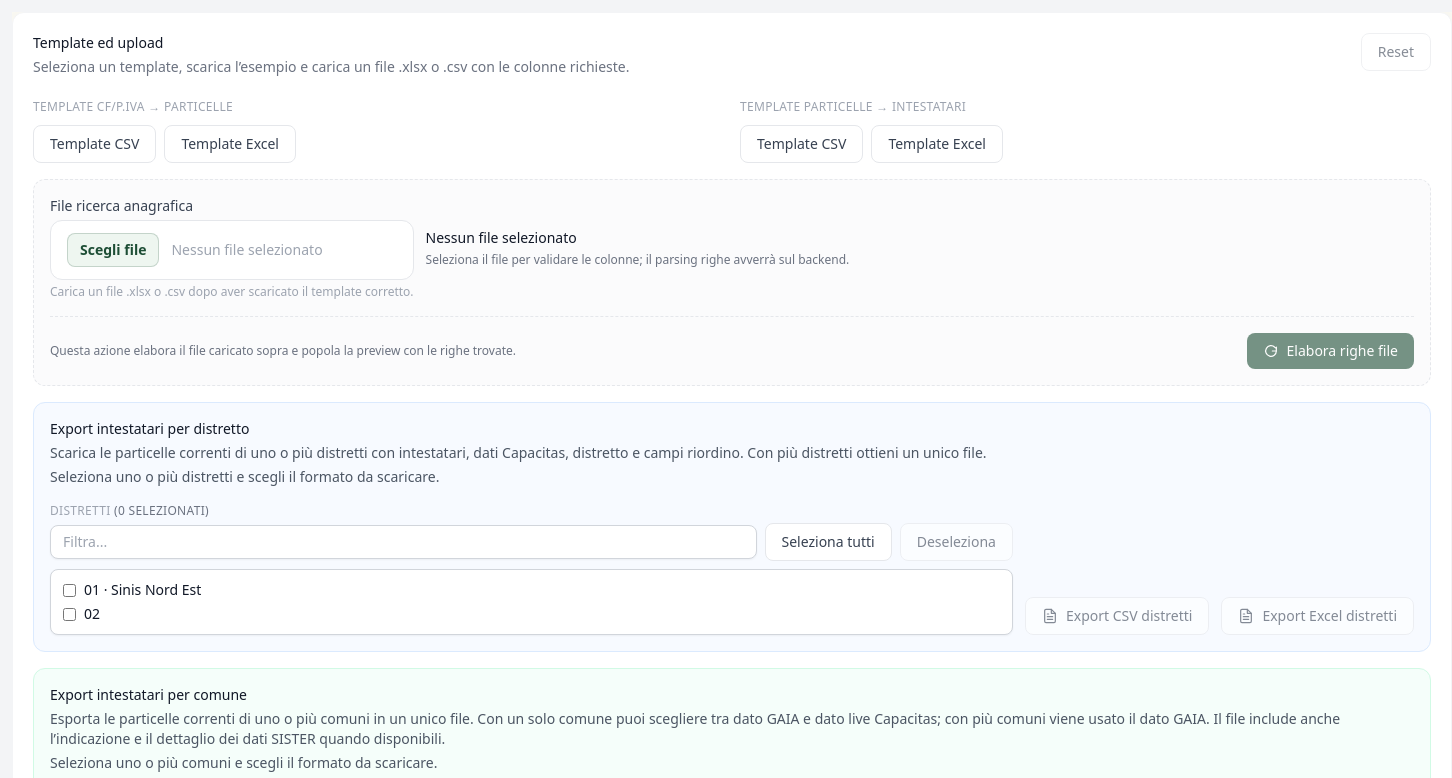
AnagraficaBulkPanel multi-scope export › uses fallback messages when the job has no error message or the request is not an Error
Click the checkbox labelled "01 · Sinis Nord Est".
click(70, 590)  # box 63,584 -> 76,596
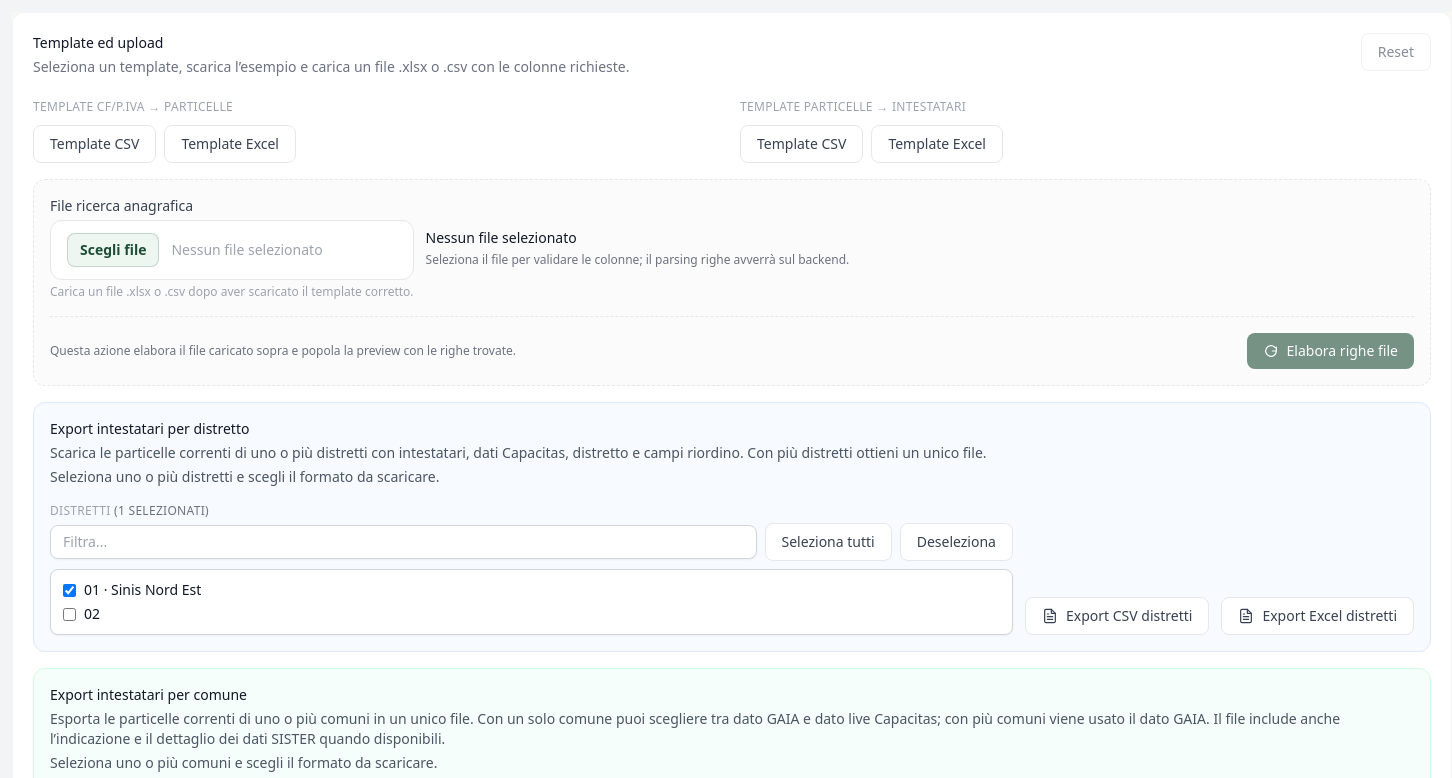
Click the button "Export CSV distretti".
click(1117, 616)  # box 1025,597 -> 1209,635
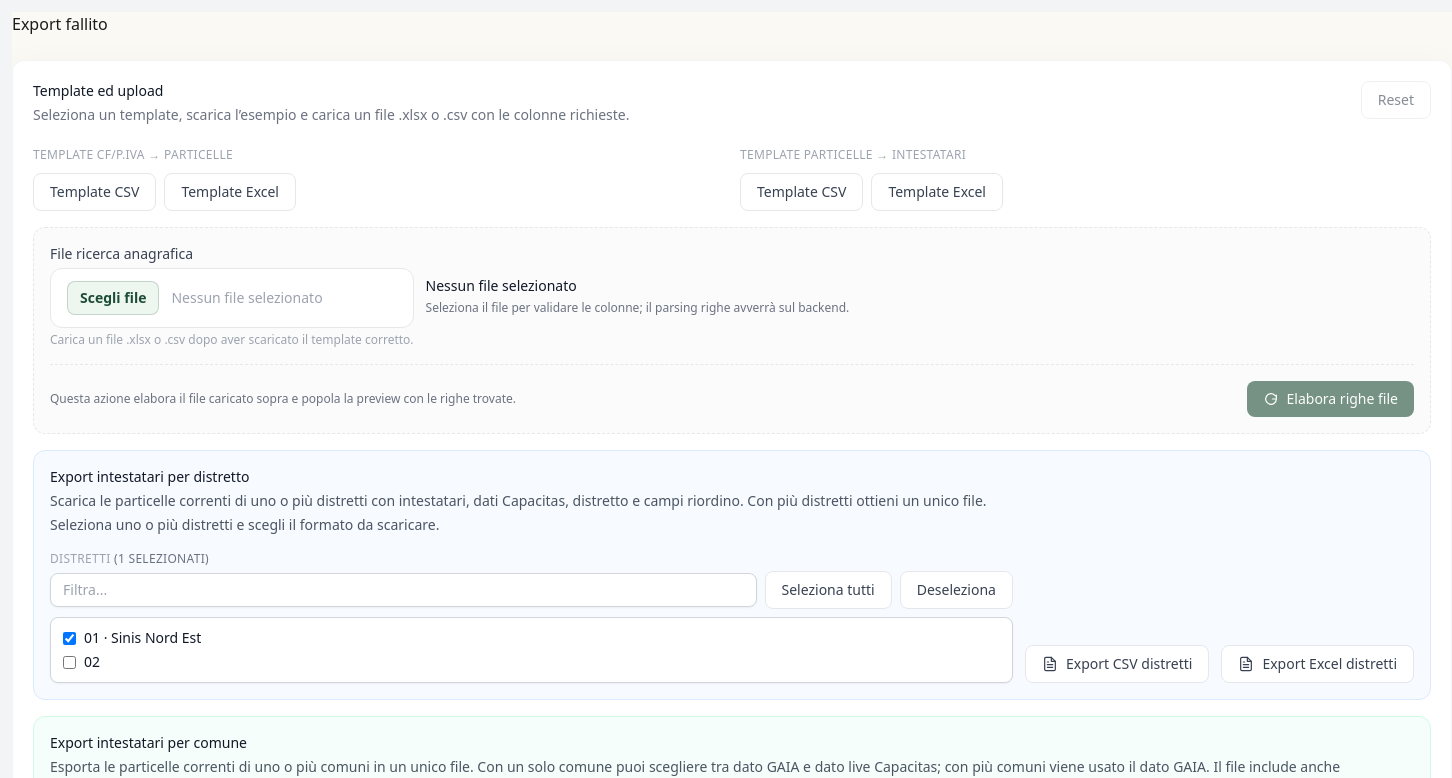
Click the button "Export CSV distretti".
click(1117, 664)  # box 1025,645 -> 1209,683
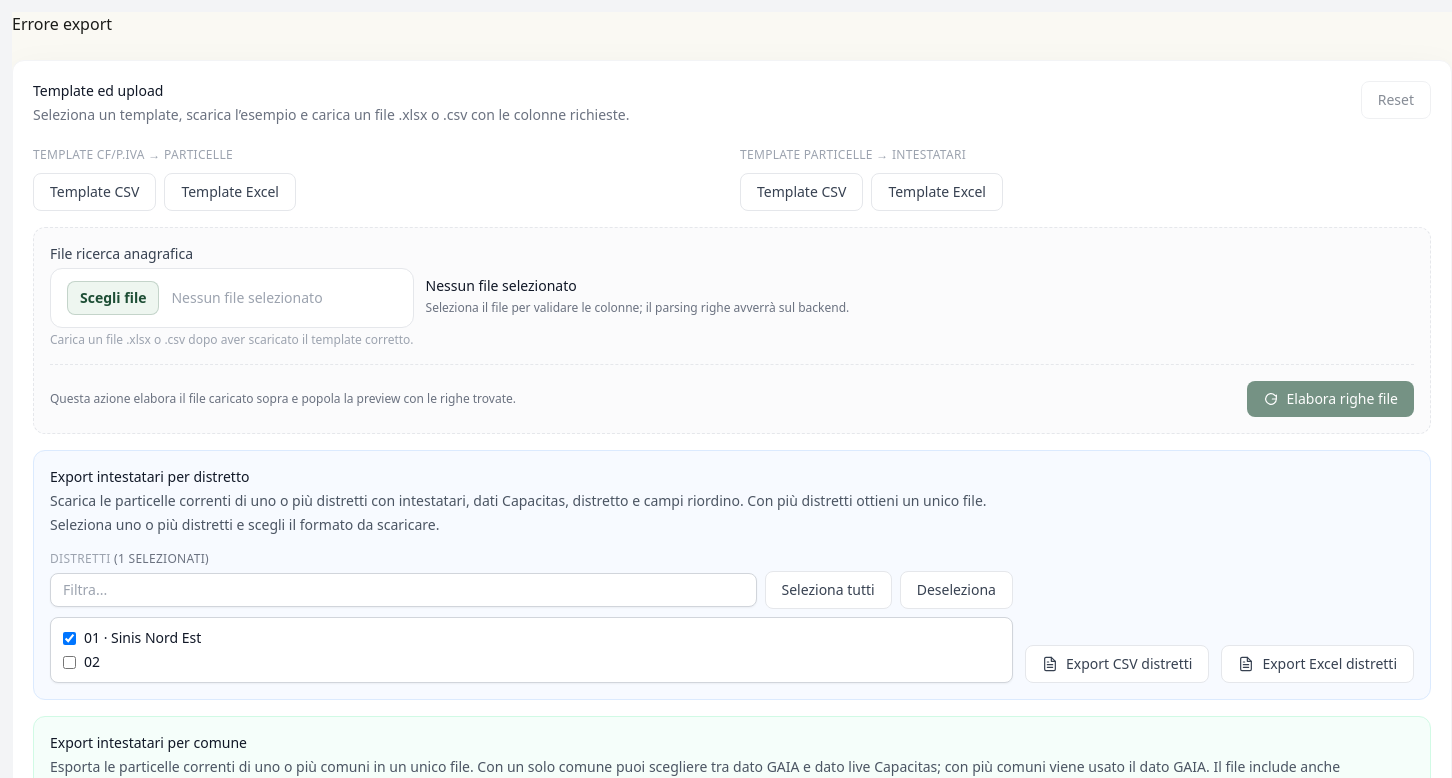
Check: the text "Errore export" is shown, box 12,13 -> 112,35
